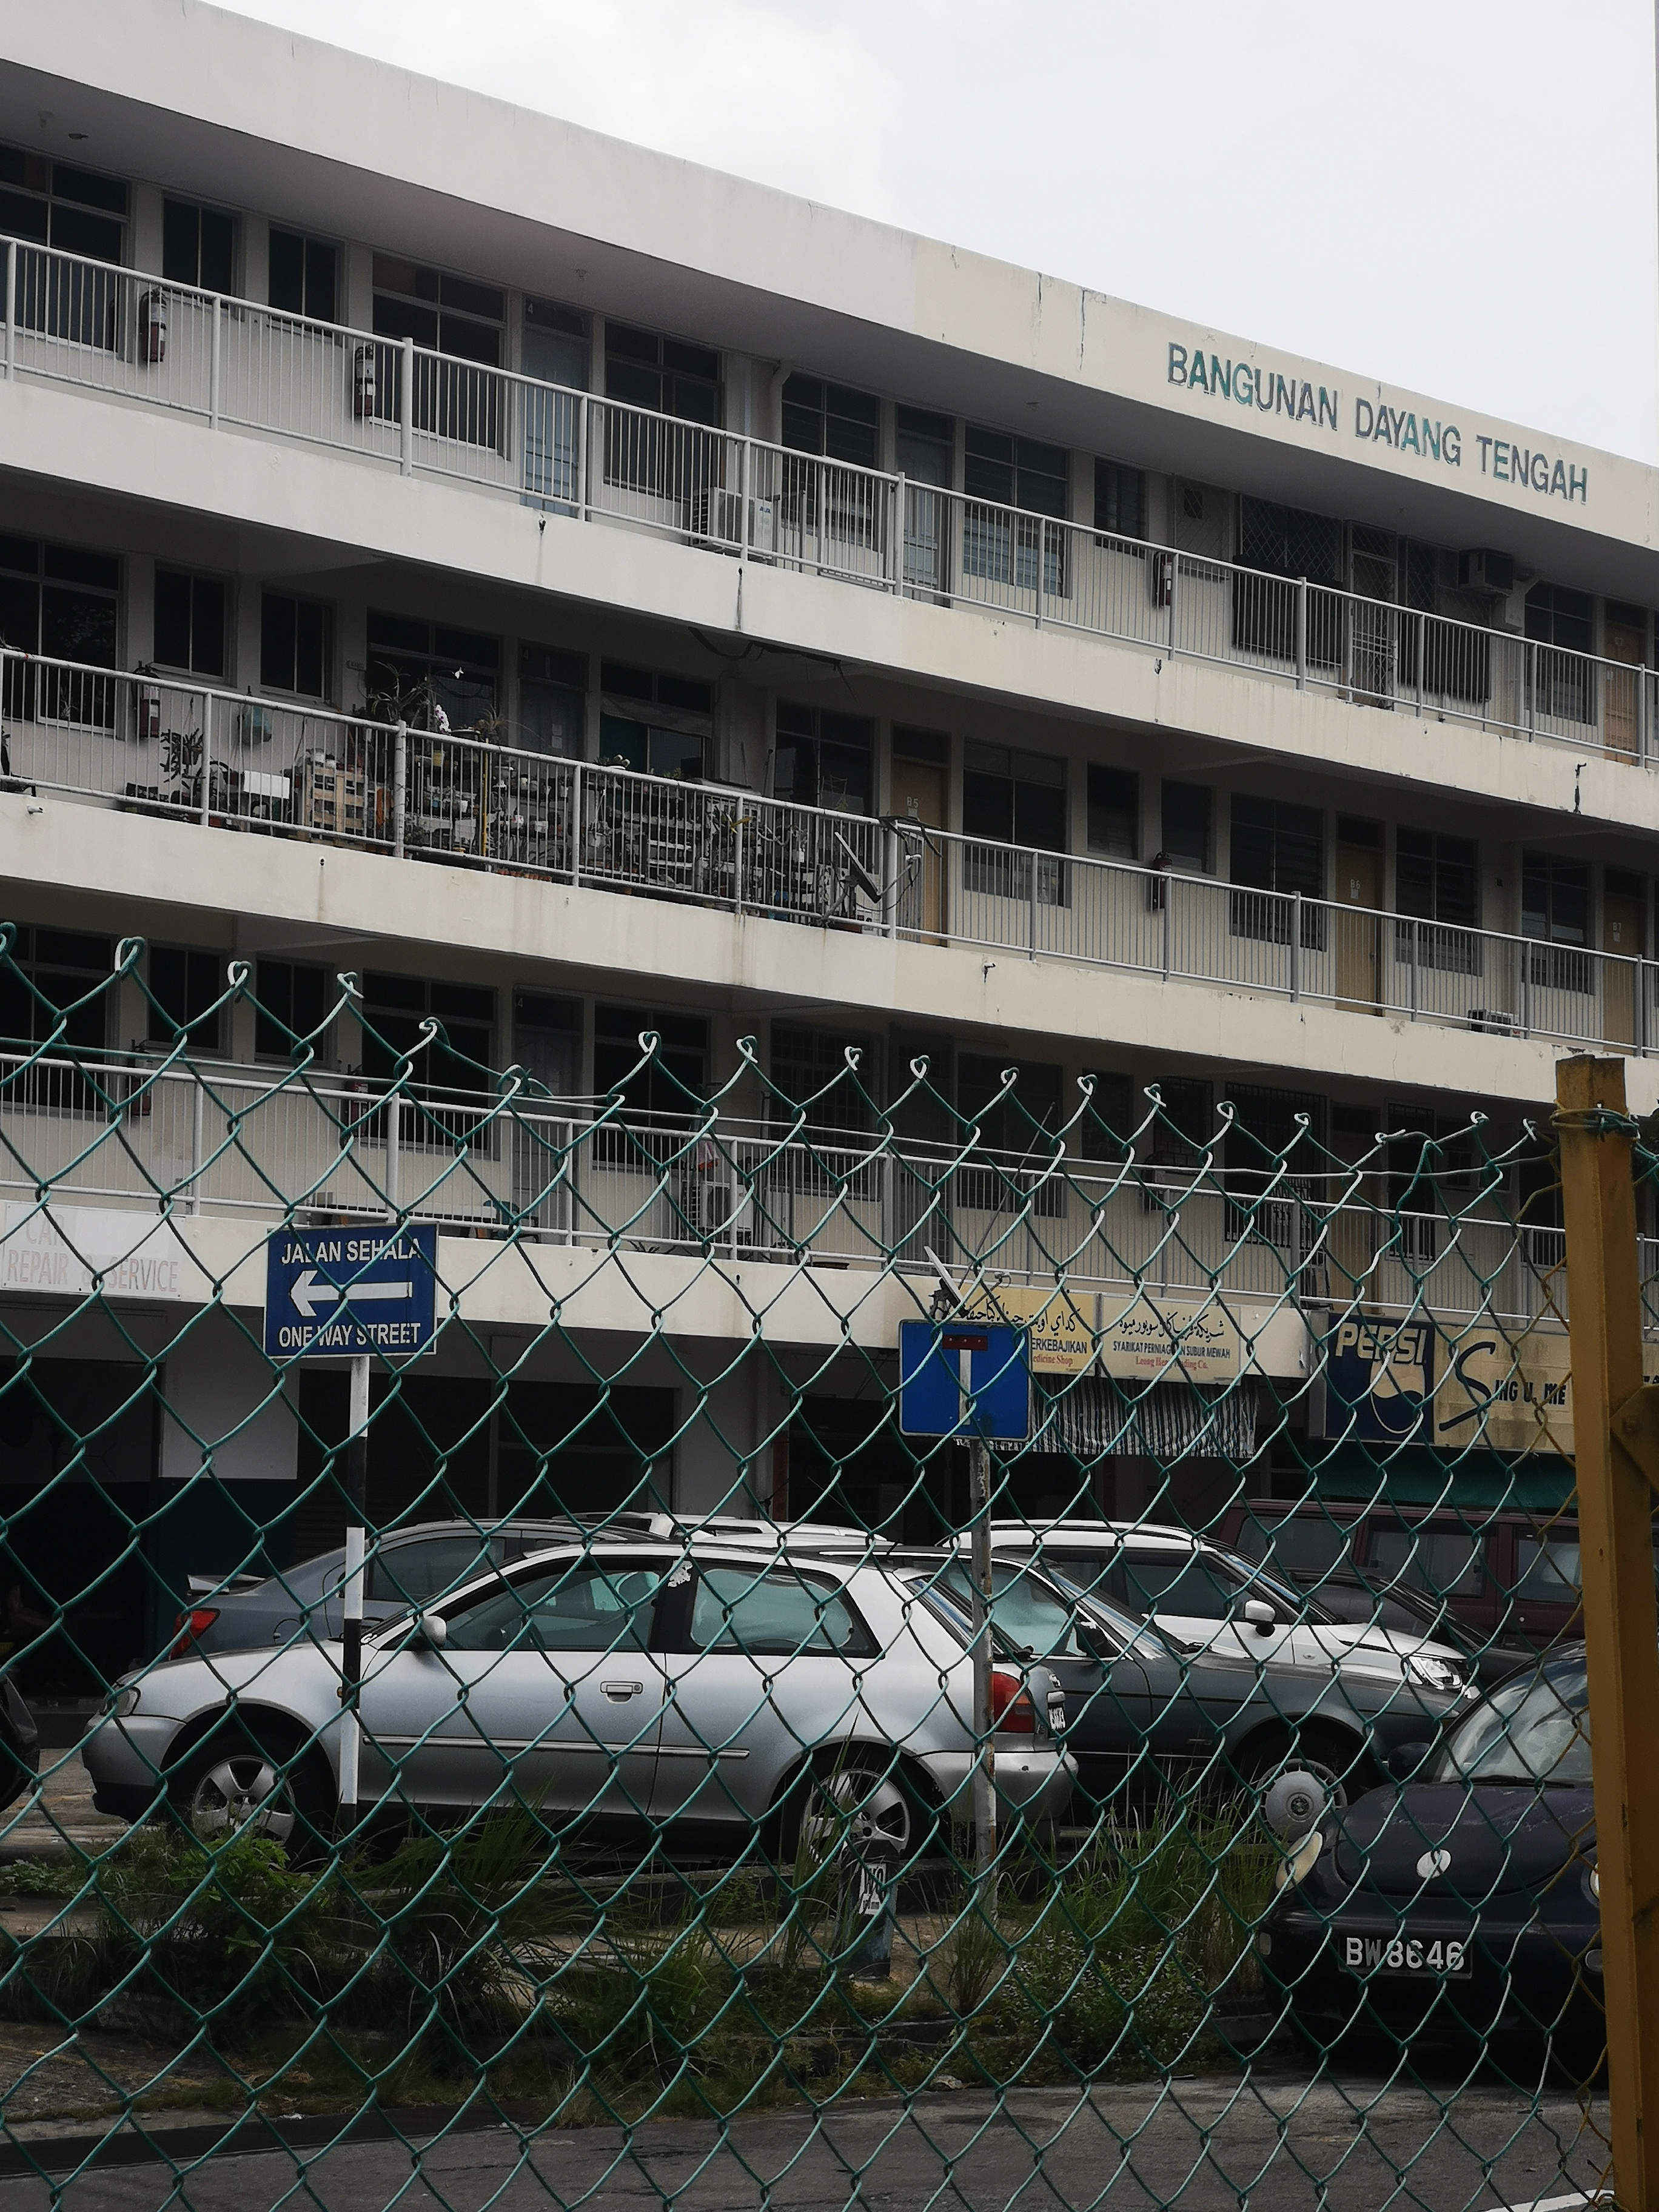no thorugh road: (890, 1312, 1051, 1444)
one way street: (261, 1231, 453, 1359)
